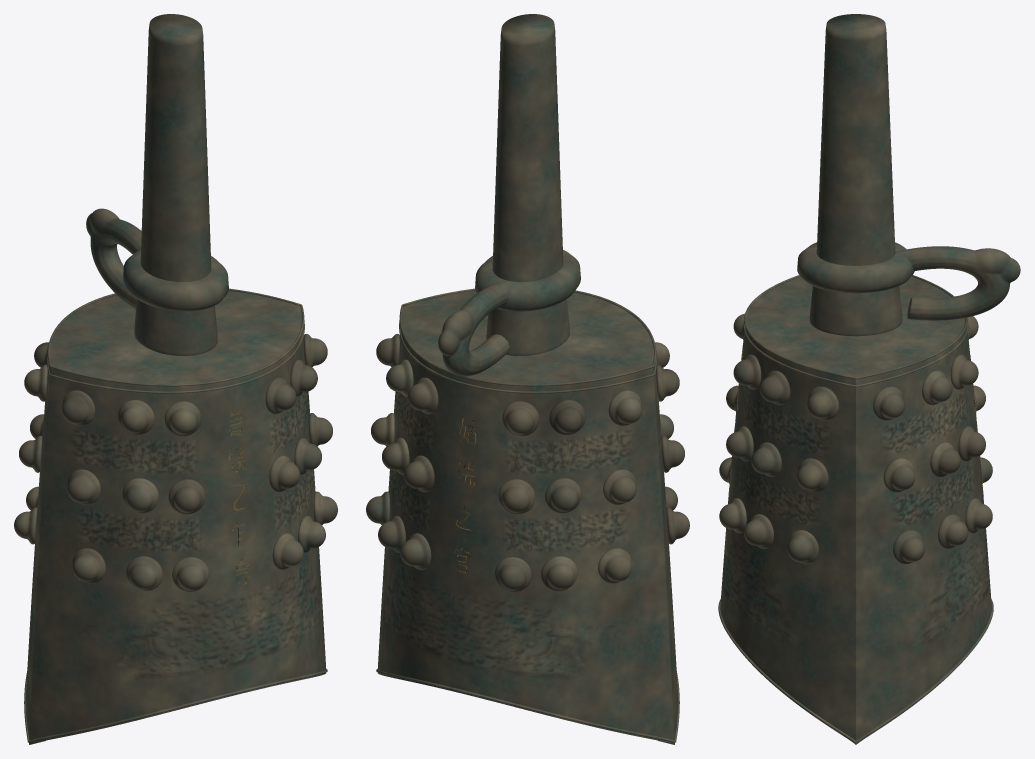
The model's file is single-bell.glb.
The picture shows the model from 3 angles, left to right: view 1: azimuth 30°, elevation 25°; view 2: azimuth 150°, elevation 25°; view 3: azimuth 270°, elevation 25°; orthographic projection. The views are drawn at different scales.
Visible parts, largest first — view 1: Bell_R26_Web; view 2: Bell_R26_Web; view 3: Bell_R26_Web.
Boxes of the visible parts, left/top/right/bottom form: Bell_R26_Web: left=14, top=14, right=337, bottom=744; Bell_R26_Web: left=366, top=14, right=689, bottom=744; Bell_R26_Web: left=718, top=14, right=1020, bottom=744.
Bounding box in the file's own units: 0.453 × 0.9998 × 0.4195.
1 material, 1 textured.
